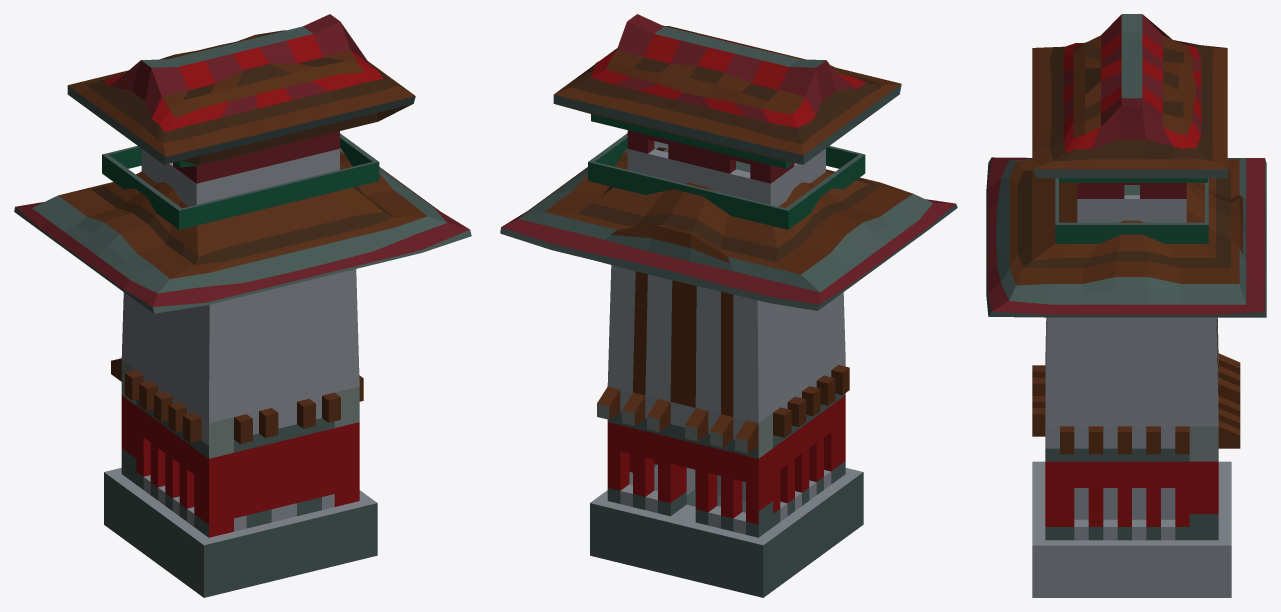
Rendered from Tower.fbx.
3 views of the same model, side by side, from view 1: azimuth 30°, elevation 25°; view 2: azimuth 150°, elevation 25°; view 3: azimuth 270°, elevation 25° (orthographic).
Visible parts, largest first — view 1: 楼阁; view 2: 楼阁; view 3: 楼阁.
Boxes of the visible parts, <box> form: 楼阁: <box>14,14,471,597</box>; 楼阁: <box>500,14,957,597</box>; 楼阁: <box>986,14,1266,597</box>.
Size of the model in its own units: 1330 by 1023 by 1998.
